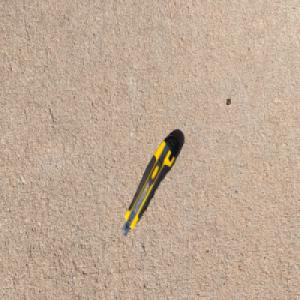Cutter: (121, 128, 185, 237)
